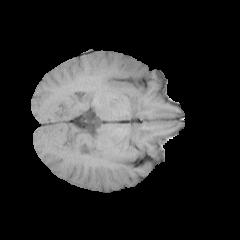glioma: (102, 56, 151, 95)
